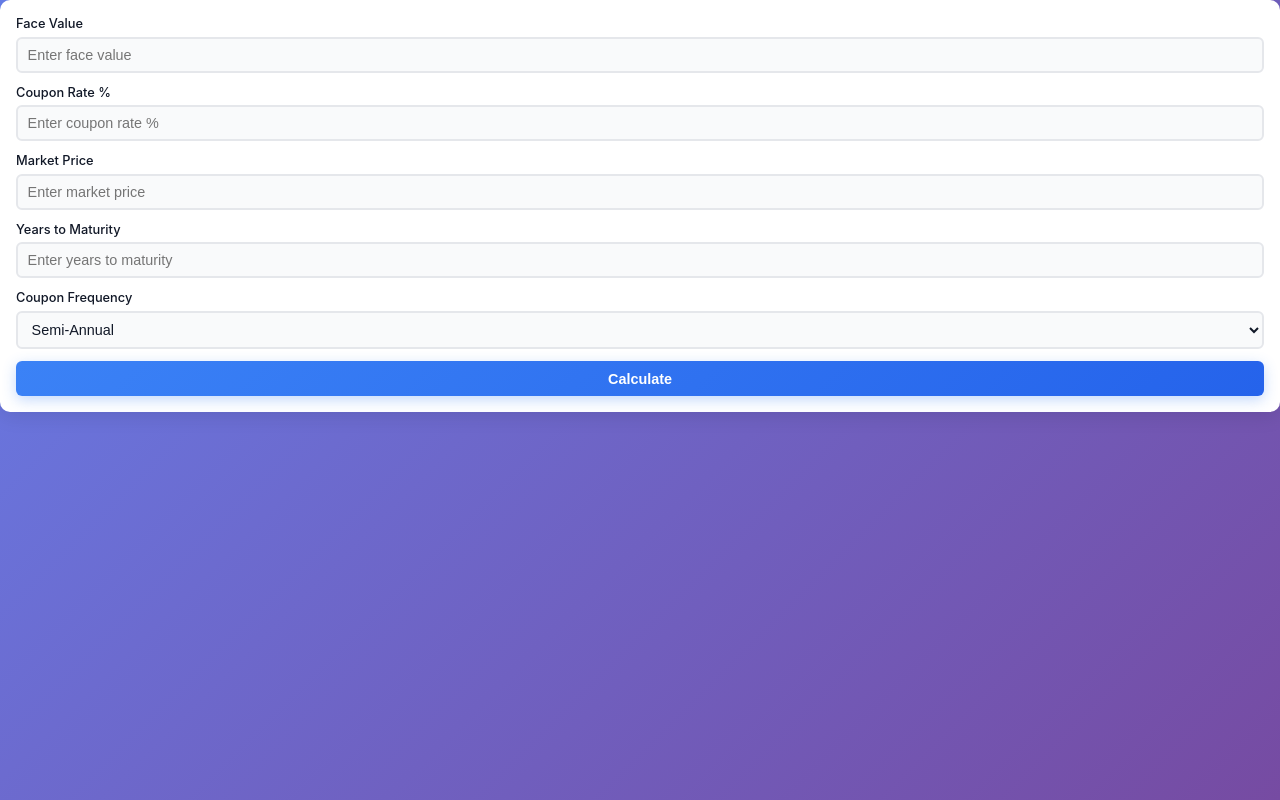
Test: BondForm Component › Input Handling › FR-I-006: should handle decimal face value input
Clear the number field labelled "Face Value": x=640, y=55 16,37 -> 1264,73
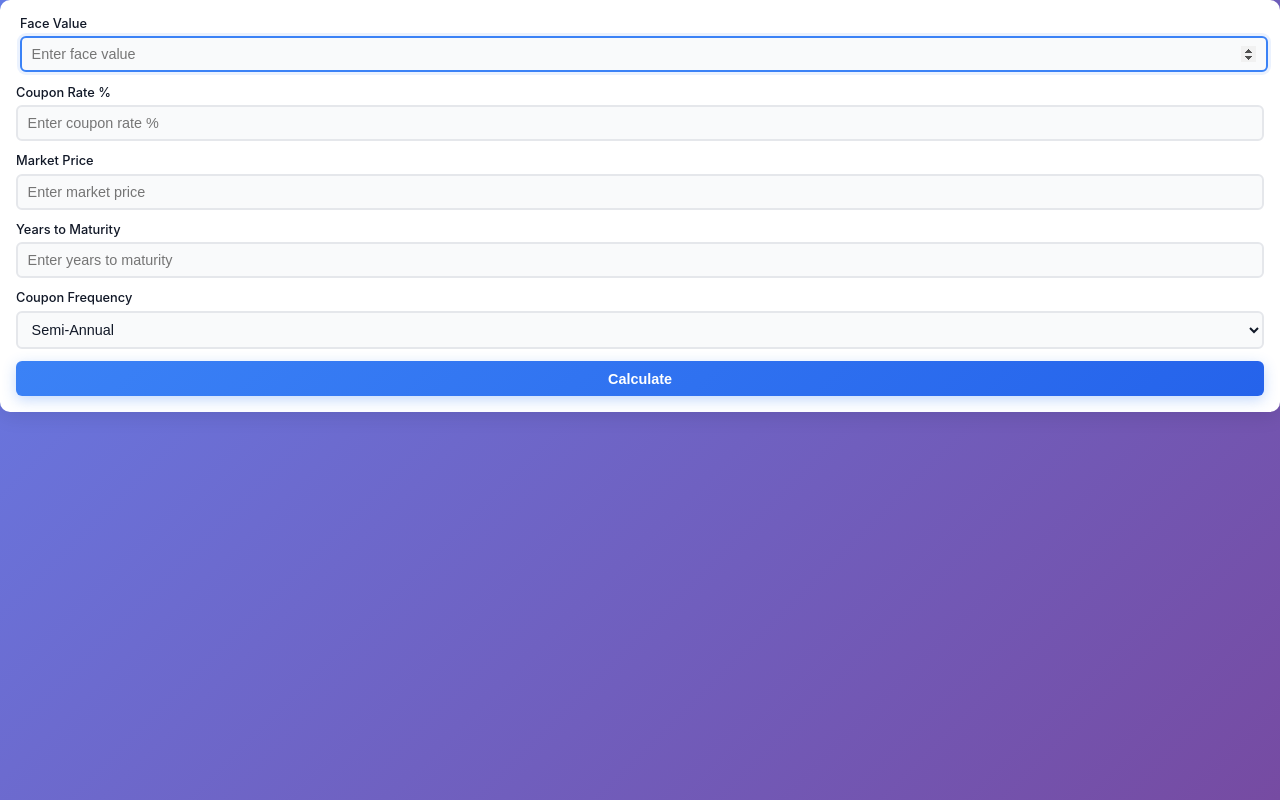
In the number field labelled "Face Value": x=644, y=54 20,36 -> 1268,72, type "1000.50"
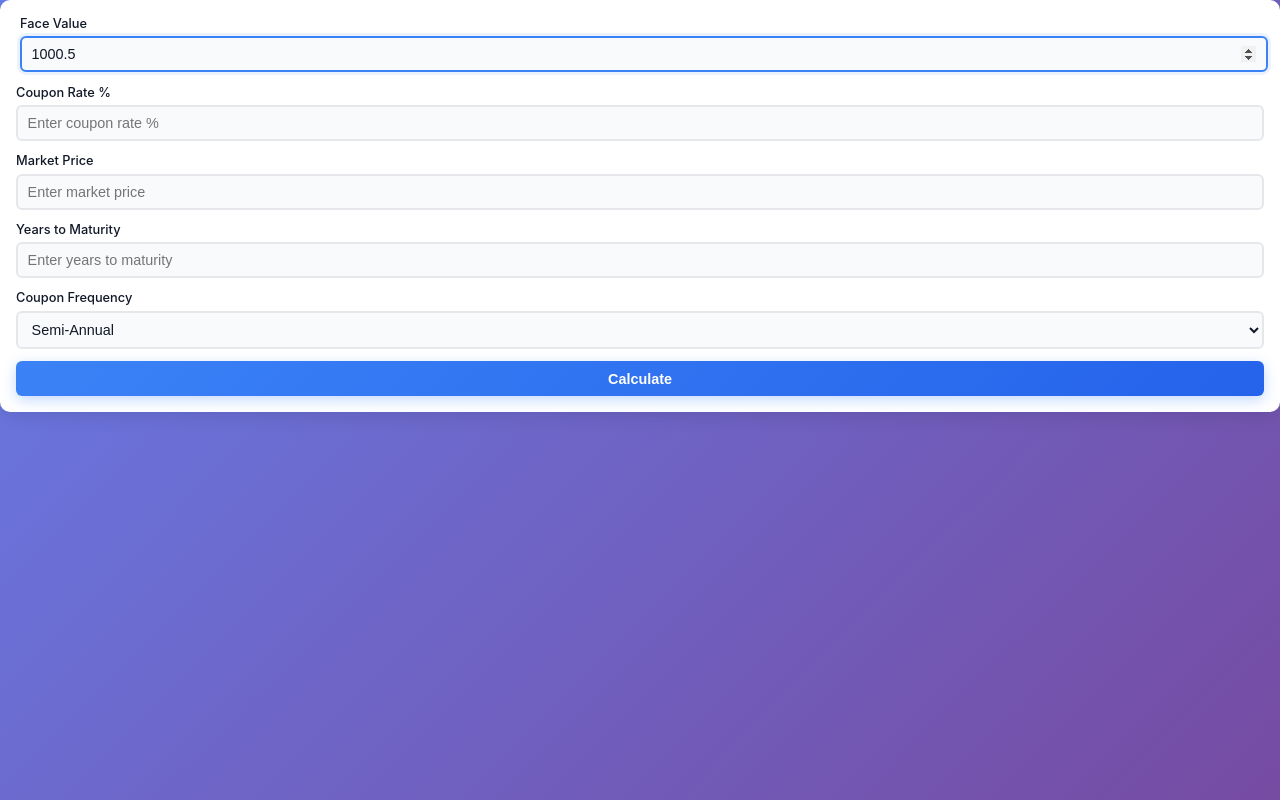
Expected: the number field labelled "Face Value" holds "1000.5", 20,36 -> 1268,72
